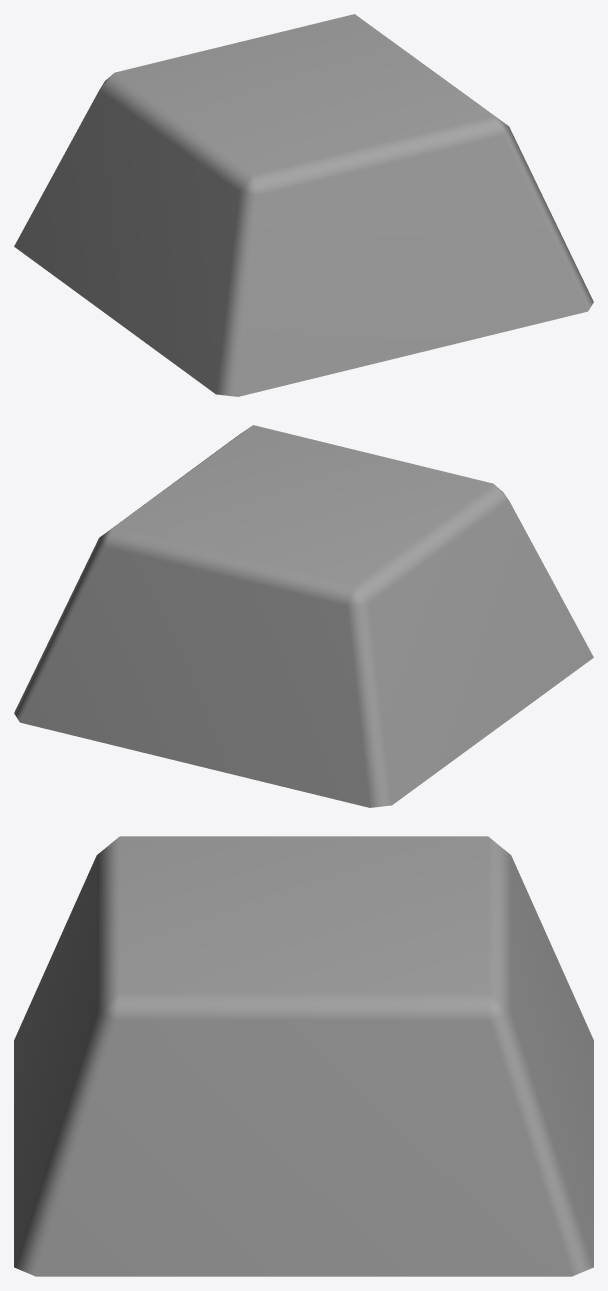
Rendered from Farm_9_Stone_1.glb.
3 views of the same model, one above another, from view 1: azimuth 30°, elevation 25°; view 2: azimuth 150°, elevation 25°; view 3: azimuth 270°, elevation 25° (orthographic). The views are drawn at different scales.
Visible parts, largest first — view 1: Farm_9_Stone_1; view 2: Farm_9_Stone_1; view 3: Farm_9_Stone_1.
Boxes of the visible parts, x1,y1,x2,y2 form: Farm_9_Stone_1: [14, 14, 593, 396]; Farm_9_Stone_1: [14, 425, 593, 807]; Farm_9_Stone_1: [14, 836, 593, 1276].
Size of the model in its own units: 0.5741 by 0.2617 by 0.5741.
Materials: 1 (1 with a texture image).
